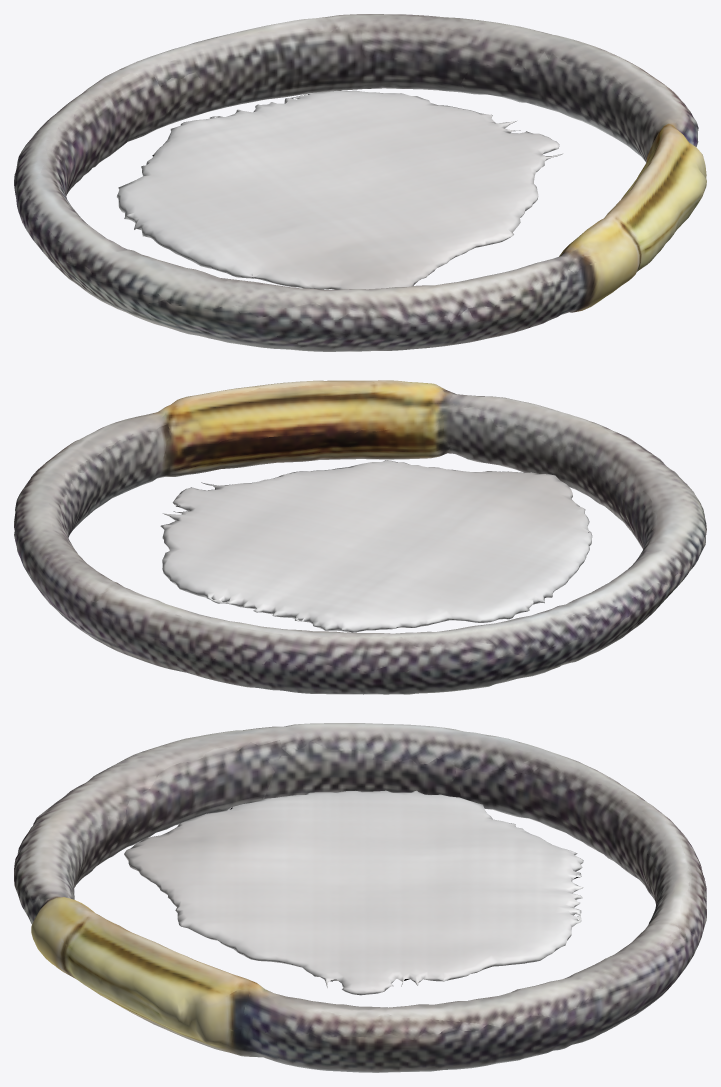
The model's file is brazaletex4.glb.
3 views of the same model, one above another, from view 1: azimuth 30°, elevation 25°; view 2: azimuth 150°, elevation 25°; view 3: azimuth 270°, elevation 25° (orthographic). The views are drawn at different scales.
Visible parts, largest first — view 1: mesh; view 2: mesh; view 3: mesh.
Boxes of the visible parts, bbox=[...] form: mesh: bbox=[14, 14, 706, 351]; mesh: bbox=[14, 380, 706, 694]; mesh: bbox=[14, 723, 706, 1072].
Size of the model in its own units: 1.95 by 0.2402 by 1.85.
1 material, 1 textured.
